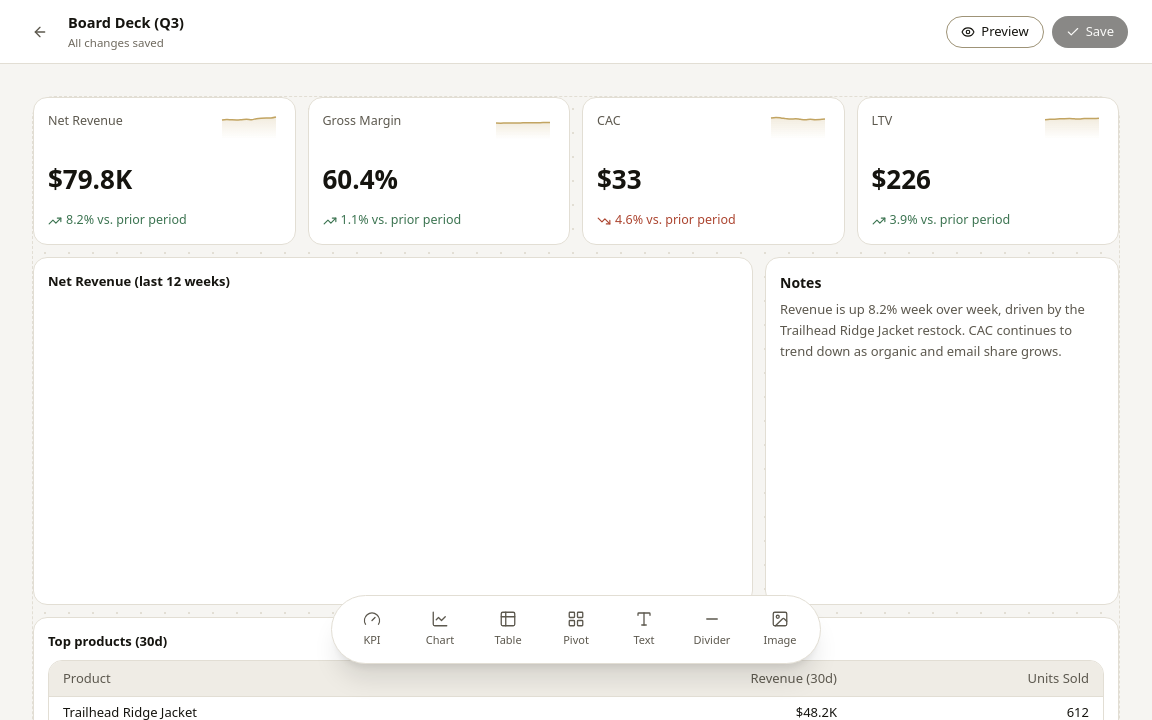
Scenario: ReportBuilderPage › moves the focused block with arrow keys and marks the report dirty
Expected: the text "Board Deck (Q3)" is shown, 68,12 -> 184,34
Click the element named "kpi block" at (164, 171), box 33,97 -> 296,245
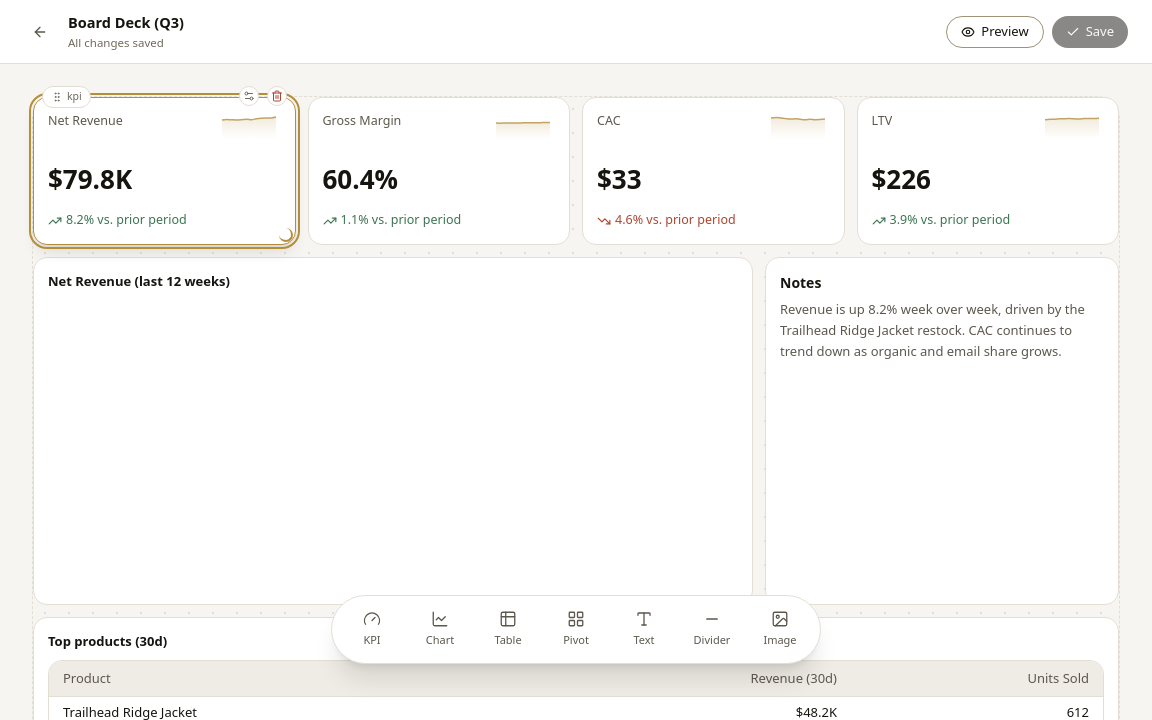
Press Arrowright
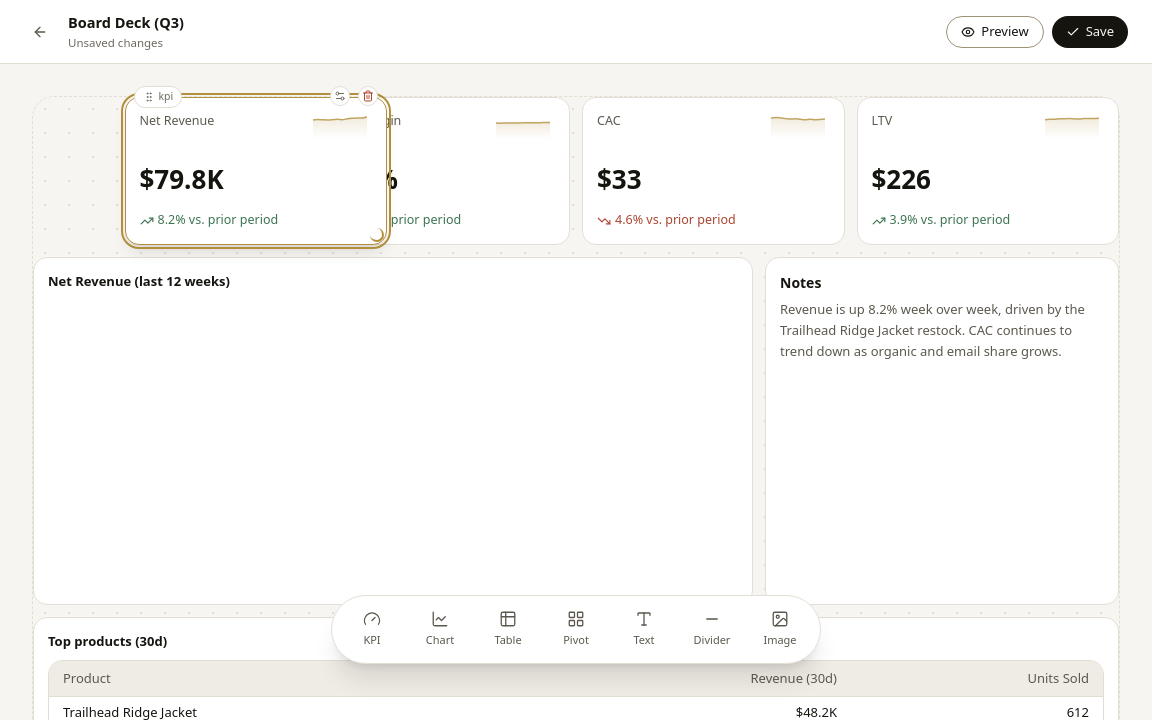
Result: the text "Unsaved changes" is shown at 68,35 -> 163,50
